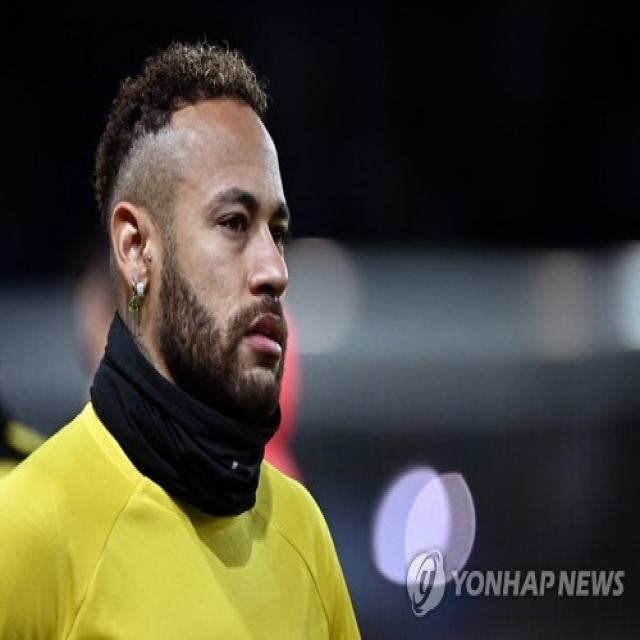neymar: (95, 64, 294, 424)
